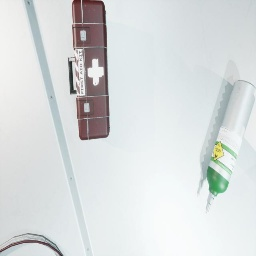0: (206, 80, 256, 214)
FirstAidBox ,: (68, 0, 110, 140)
